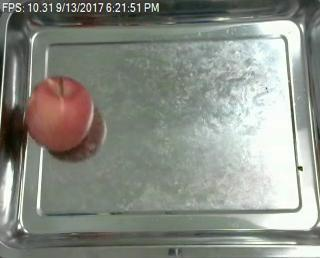apple: (24, 76, 93, 153)
